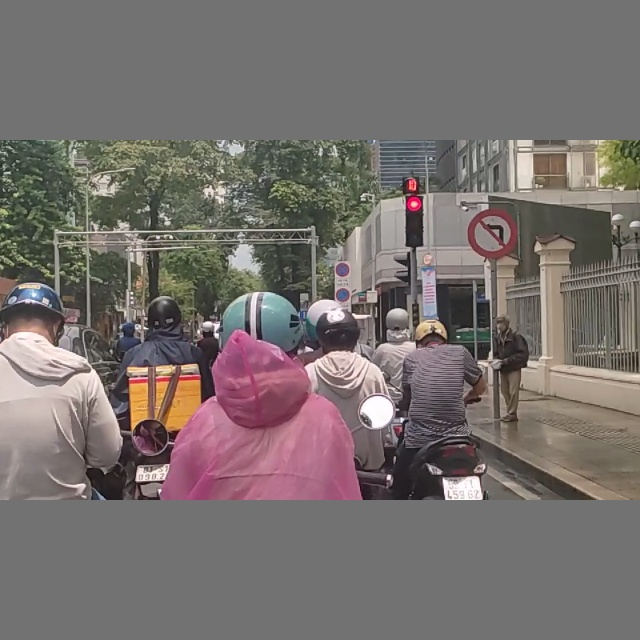P.123a: (467, 205, 518, 259)
P.130: (335, 262, 349, 277)
P.131a: (335, 287, 350, 303)
